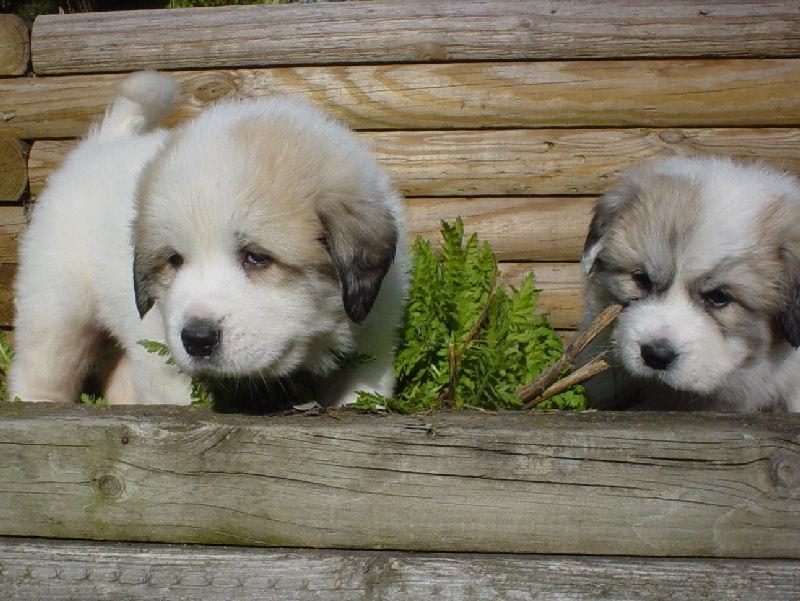Great_Pyrenees: (0, 67, 418, 411), (574, 153, 798, 411)
